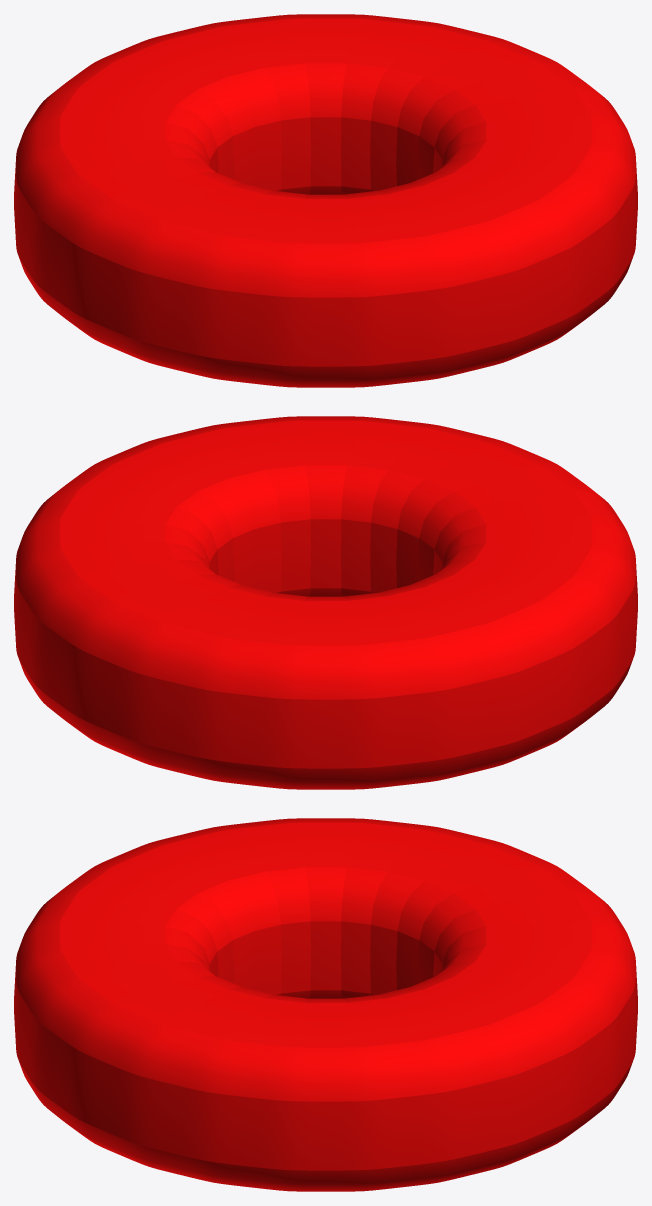
File: Lifesaver - Red.FBX
3 views of the same model, one above another, from view 1: azimuth 30°, elevation 25°; view 2: azimuth 150°, elevation 25°; view 3: azimuth 270°, elevation 25° (orthographic).
Parts seen in each view (by area): view 1: Tube001; view 2: Tube001; view 3: Tube001.
Boxes of the visible parts, x1,y1,x2,y2 form: Tube001: (14, 14, 637, 387); Tube001: (14, 416, 637, 789); Tube001: (14, 818, 637, 1191).
Size of the model in its own units: 7.9 by 2 by 7.9.
